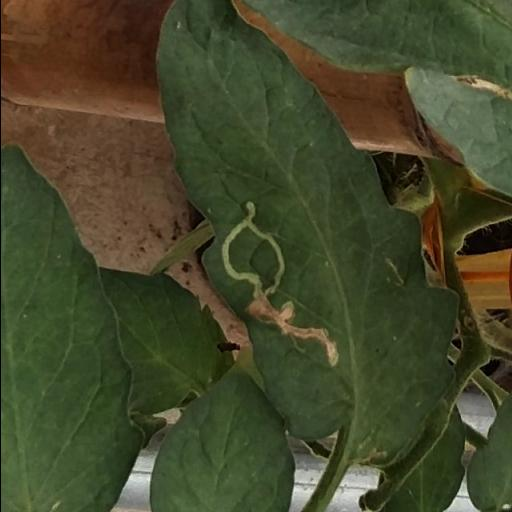disease_tomato: (154, 0, 462, 471)
